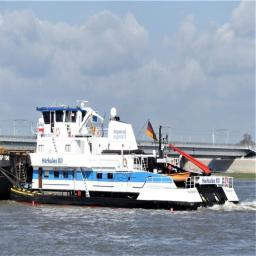tugboat: (10, 99, 242, 217)
